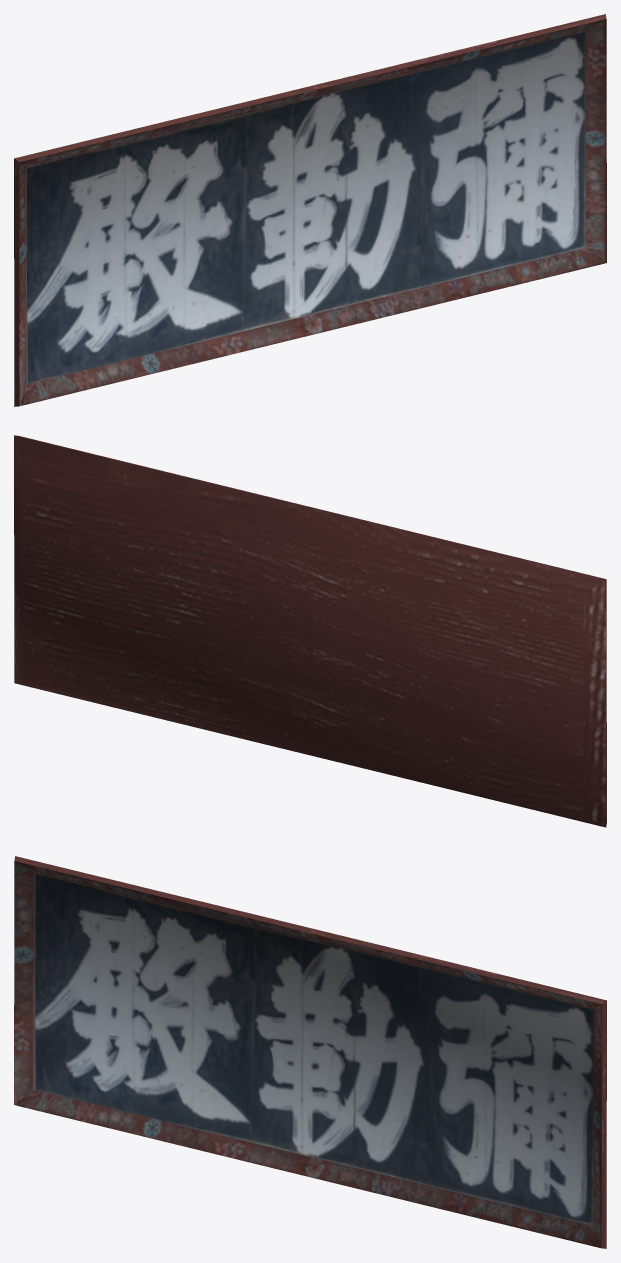
Rendered from SM_Geumsan_Mi_Sign.fbx.
3 views of the same model, one above another, from view 1: azimuth 30°, elevation 25°; view 2: azimuth 150°, elevation 25°; view 3: azimuth 330°, elevation 25° (orthographic).
Parts seen in each view (by area): view 1: SM_Geumsan_Mi_Sign; view 2: SM_Geumsan_Mi_Sign; view 3: SM_Geumsan_Mi_Sign.
Boxes of the visible parts, box(x1,y1,x2,y2) form: SM_Geumsan_Mi_Sign: box(14, 14, 606, 406); SM_Geumsan_Mi_Sign: box(14, 435, 606, 827); SM_Geumsan_Mi_Sign: box(14, 856, 606, 1248).
Bounding box in the file's own units: 396 × 159 × 11.94.
